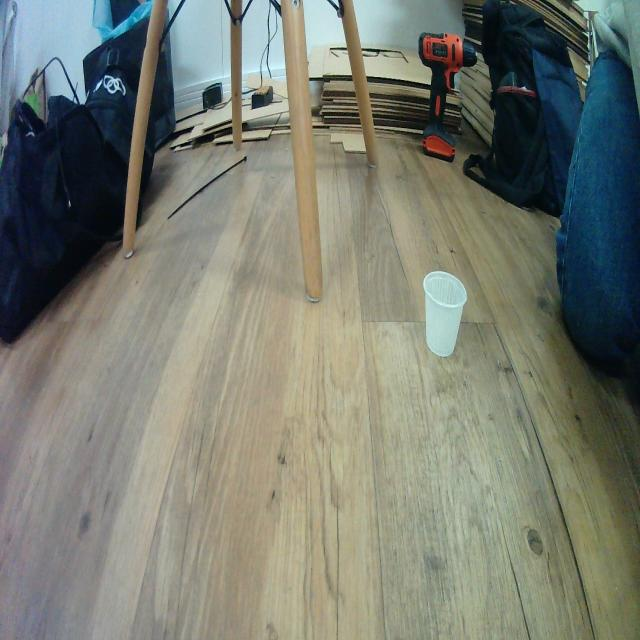planta: (423, 270, 468, 358)
